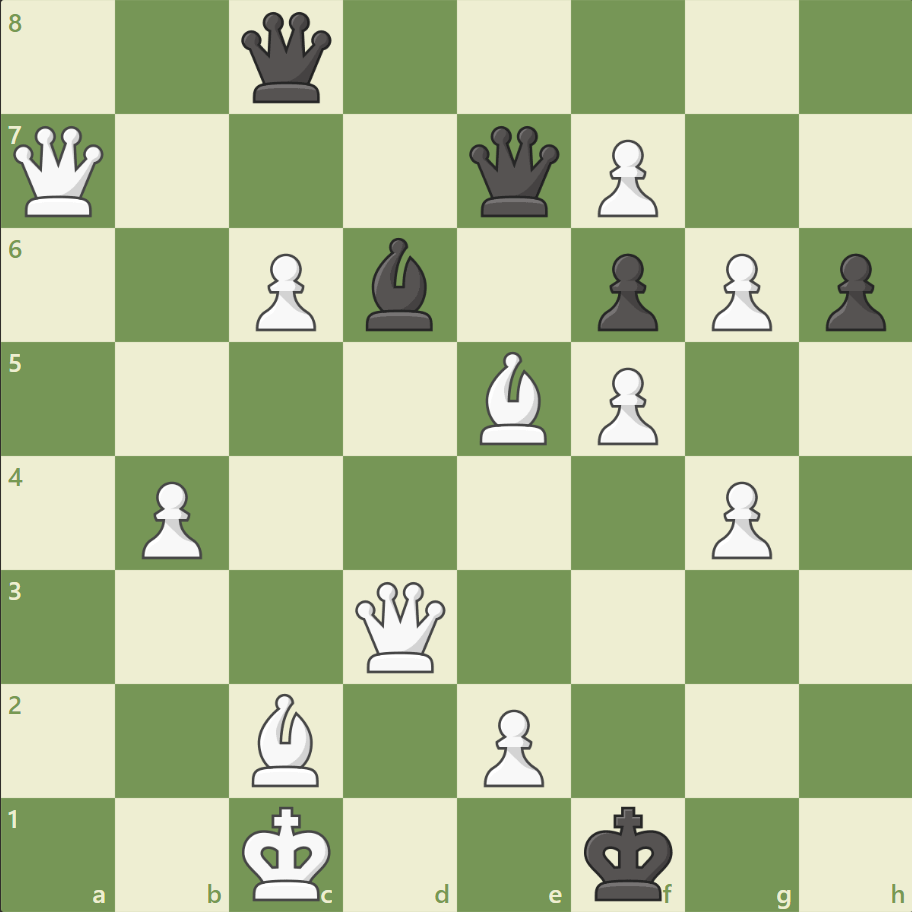B: (244, 687, 328, 790), (471, 347, 555, 449)
K: (238, 798, 338, 906)
P: (247, 246, 322, 337), (701, 246, 776, 337), (133, 473, 208, 564), (701, 473, 776, 564), (474, 700, 549, 791), (588, 132, 662, 223), (588, 359, 662, 450)
Q: (10, 122, 109, 222), (351, 576, 450, 676)
b: (358, 233, 442, 336)
k: (579, 798, 679, 906)
p: (588, 246, 662, 337), (815, 246, 889, 337)
q: (464, 122, 563, 222), (237, 9, 336, 108)
